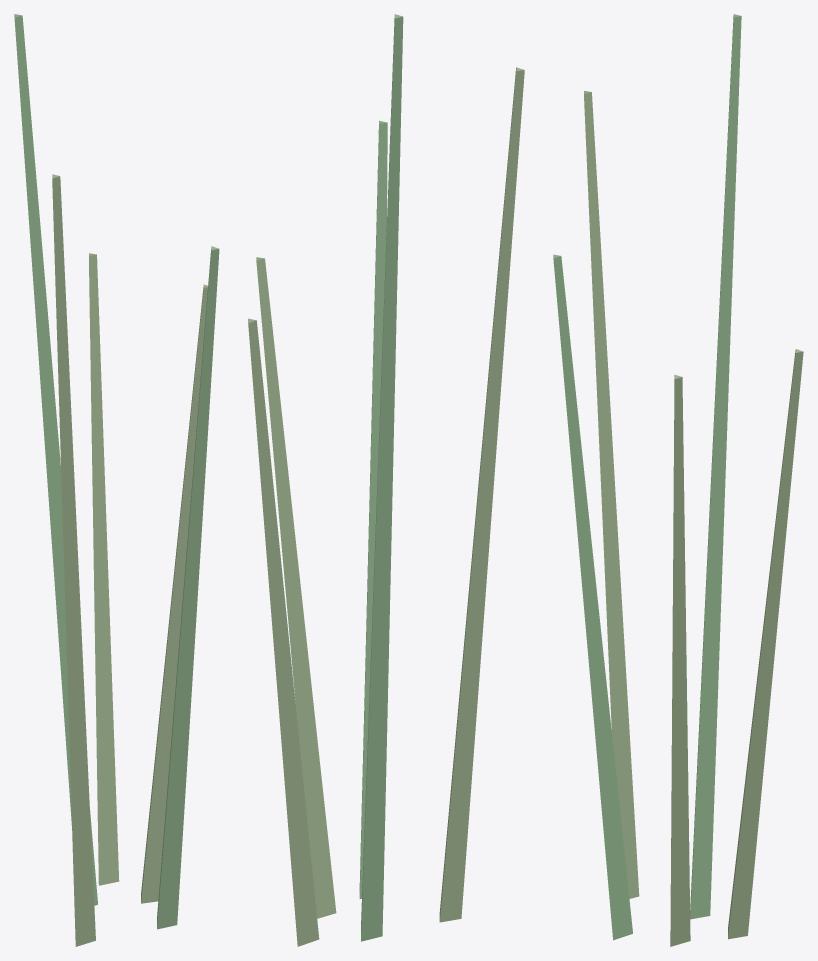
Rendered from reed_v12.glb.
3 views of the same model, side by side, from view 1: azimuth 30°, elevation 25°; view 2: azimuth 150°, elevation 25°; view 3: azimuth 270°, elevation 25° (orthographic). The views are drawn at different scales.
Visible parts, largest first — view 1: lod0; view 2: lod0; view 3: lod0.
Boxes of the visible parts, x1=… form: lod0: x1=14, y1=14, x2=219, y2=946; lod0: x1=248, y1=14, x2=524, y2=946; lod0: x1=553, y1=14, x2=803, y2=946.
Size of what is drawn, in the model's own units: 0.3499 by 1.45 by 0.3734.
